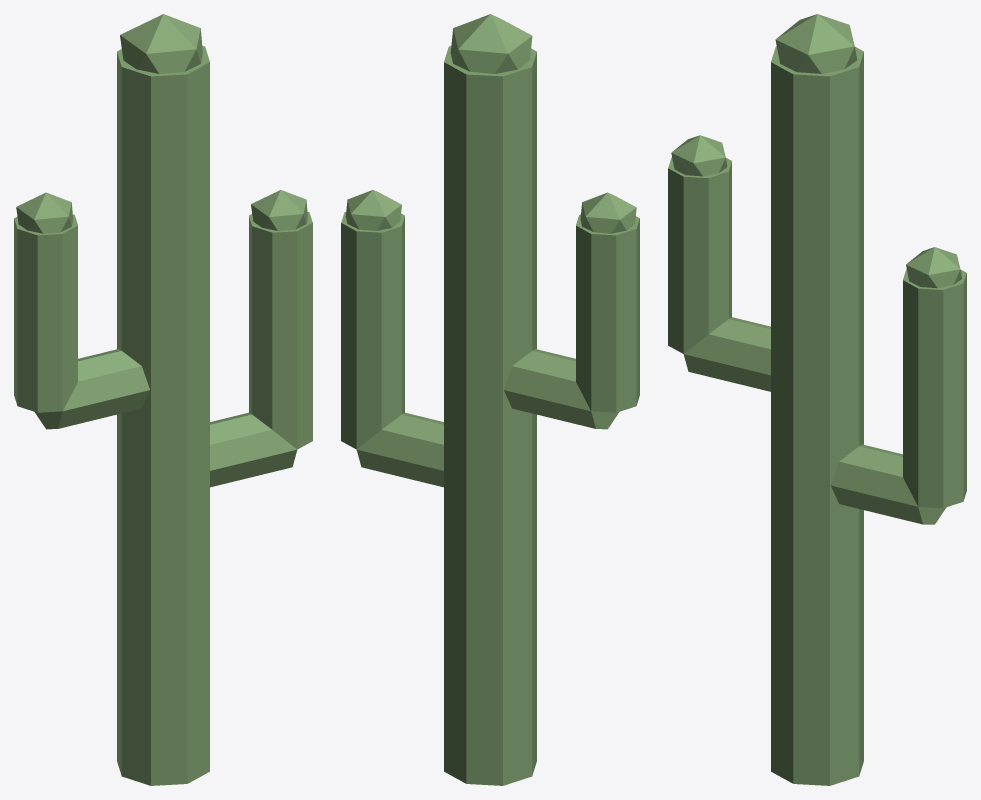
File: cactus.glb
3 views of the same model, side by side, from view 1: azimuth 30°, elevation 25°; view 2: azimuth 150°, elevation 25°; view 3: azimuth 330°, elevation 25° (orthographic).
Visible parts, largest first — view 1: cactus; view 2: cactus; view 3: cactus.
Part boxes in pixels (x1,y1,x2,y2): cactus: (14, 14, 312, 785); cactus: (341, 14, 639, 785); cactus: (668, 14, 966, 785).
Bounding box in the file's own units: 2.24 × 5.51 × 0.64.
